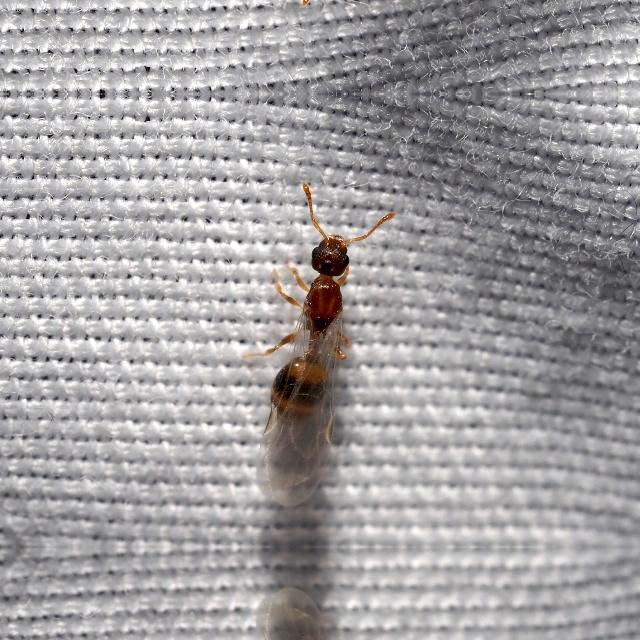Temnothorax: (235, 198, 387, 450)
